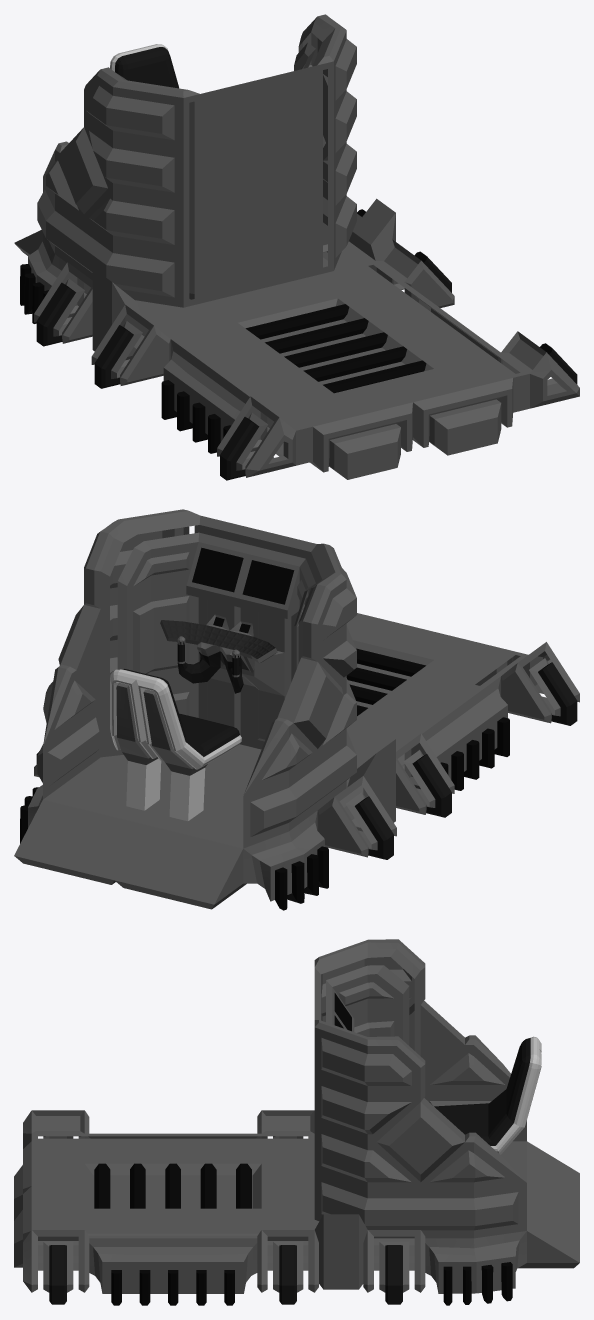
The model's file is sht-110.dae.
The picture shows the model from 3 angles, top to bottom: view 1: azimuth 30°, elevation 25°; view 2: azimuth 150°, elevation 25°; view 3: azimuth 270°, elevation 25°; orthographic projection. The views are drawn at different scales.
Parts seen in each view (by area): view 1: sht-110; view 2: sht-110; view 3: sht-110.
Boxes of the visible parts, box(x1,y1,x2,y2) form: sht-110: box(14, 14, 579, 480); sht-110: box(14, 509, 579, 910); sht-110: box(14, 939, 579, 1305).
Bounding box in the file's own units: 4.54 × 6.91 × 3.4.
